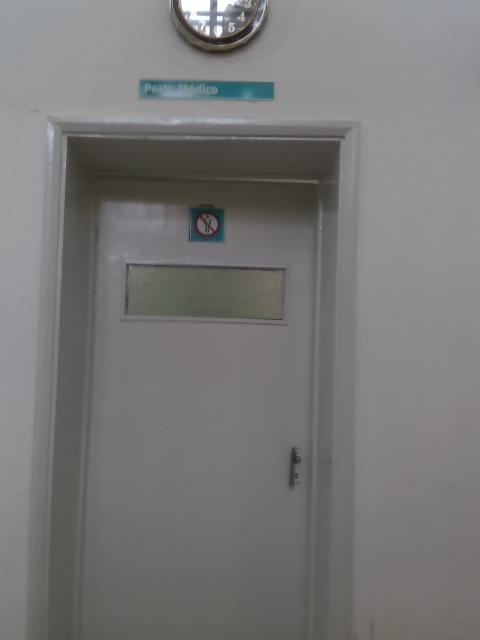door: (74, 178, 317, 640)
